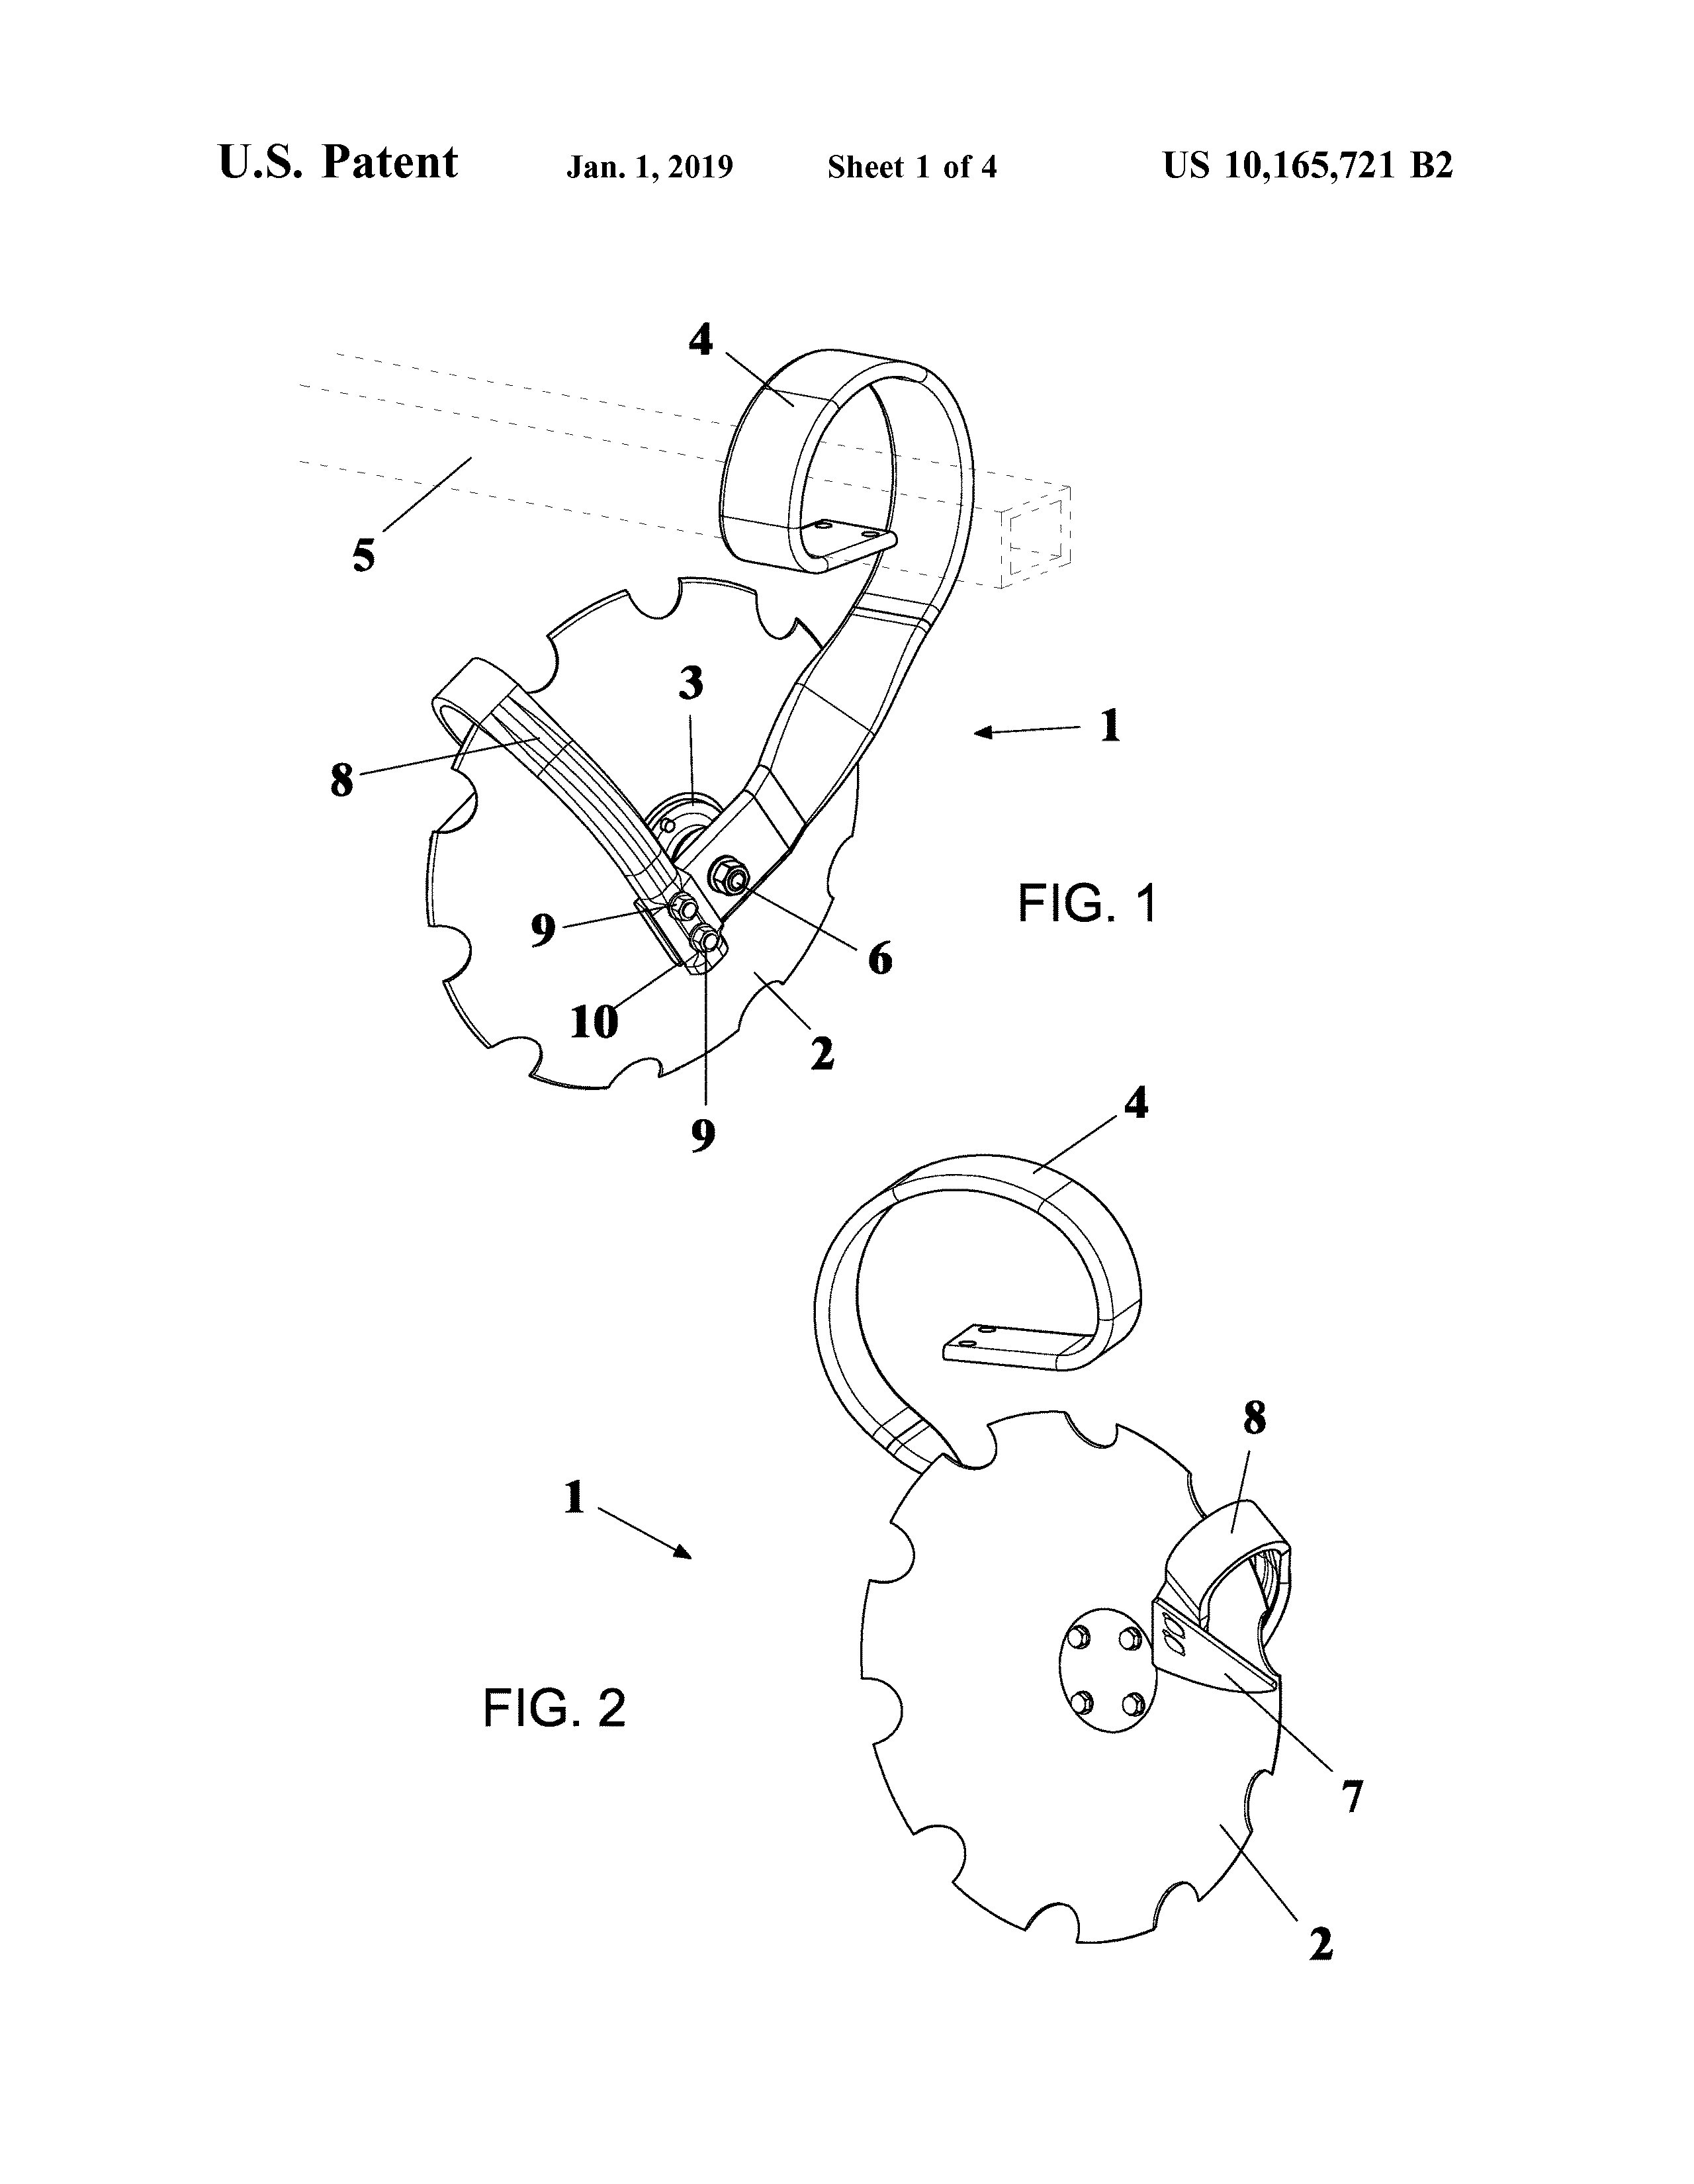patent image: (474, 1079, 1409, 2000), (281, 270, 1208, 1179)
